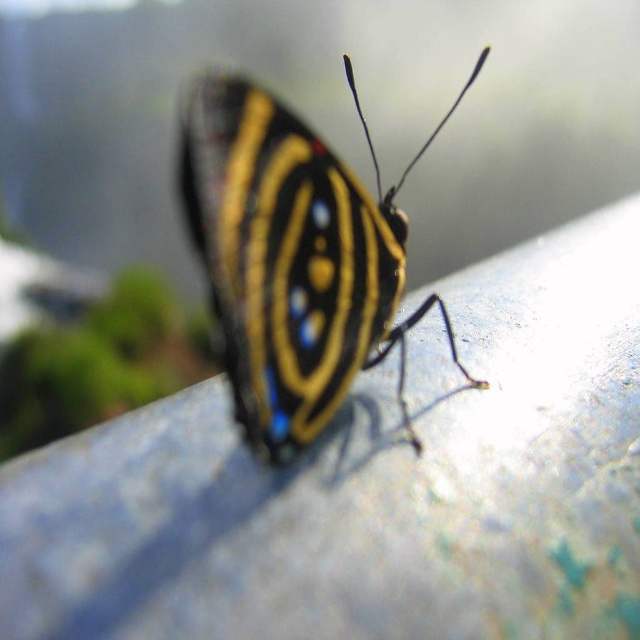Butterfly: (171, 45, 490, 489)
